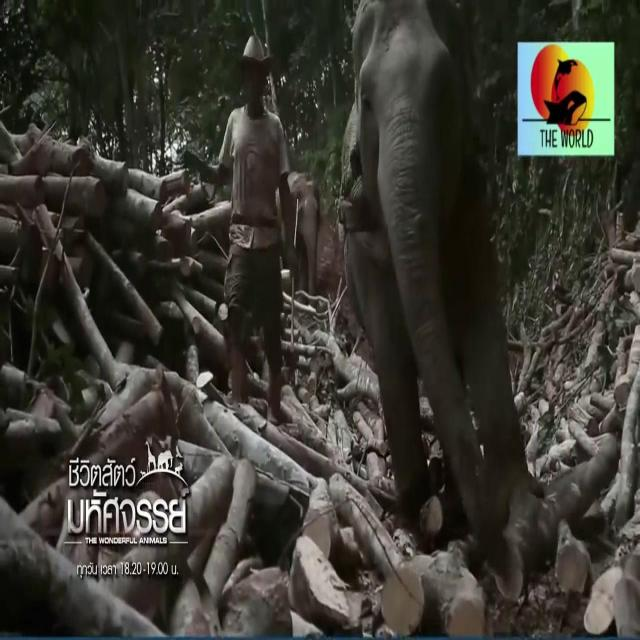Elephant: (348, 12, 495, 454), (282, 162, 322, 271)
